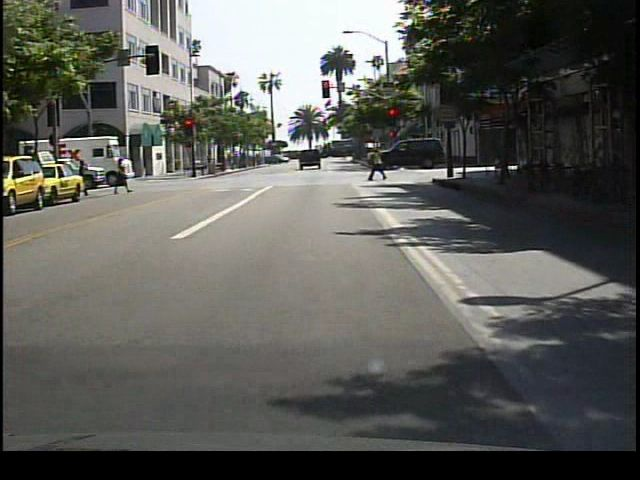person: (491, 138, 514, 185), (74, 152, 93, 197), (369, 147, 390, 182), (114, 157, 131, 196)
